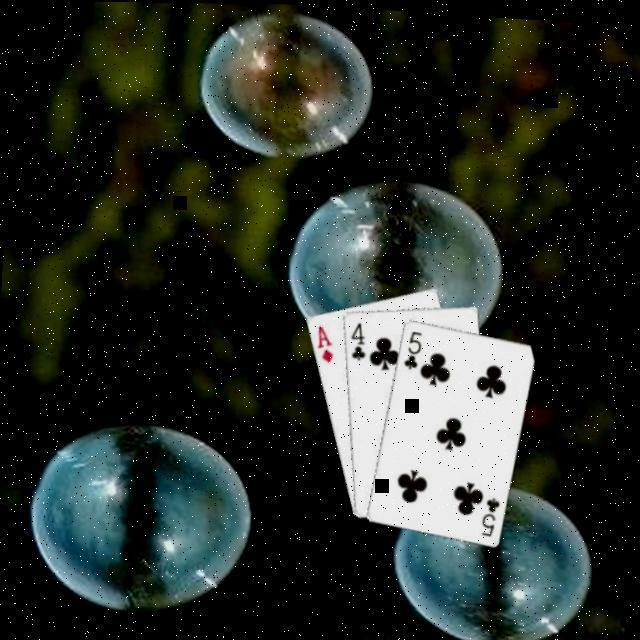4C: (345, 318, 368, 363)
5C: (477, 492, 502, 538), (399, 327, 424, 372)
AD: (312, 322, 336, 365)
